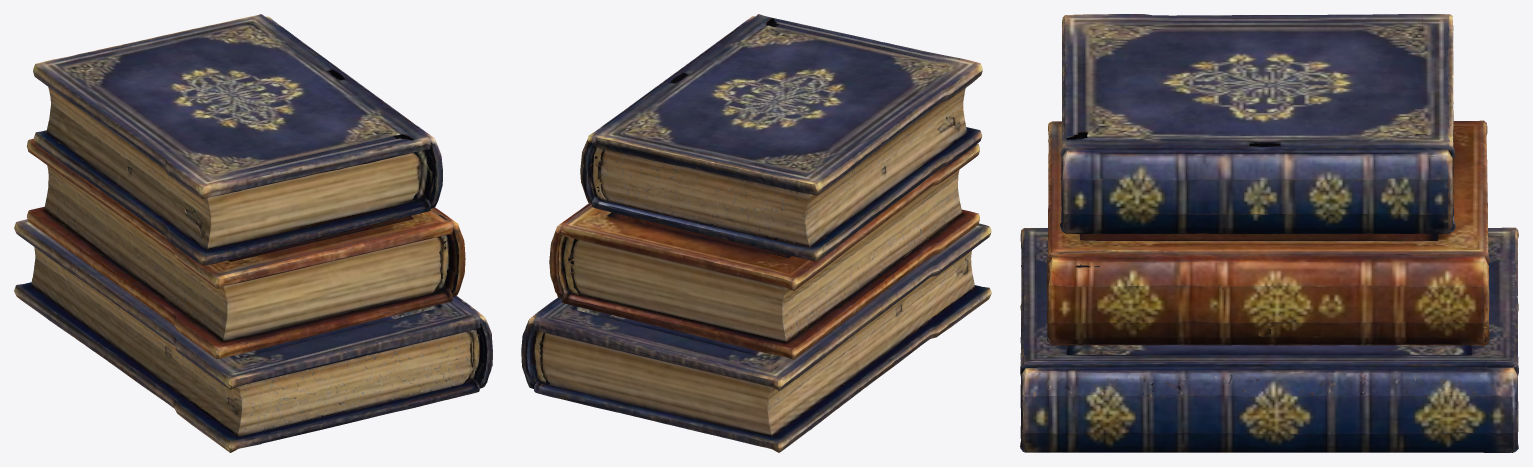
The model's file is dress-bottles.glb.
3 views of the same model, side by side, from view 1: azimuth 30°, elevation 25°; view 2: azimuth 150°, elevation 25°; view 3: azimuth 270°, elevation 25° (orthographic). The views are drawn at different scales.
Size of the model in its own units: 0.7349 by 0.6509 by 0.9998.
1 material, 1 textured.
